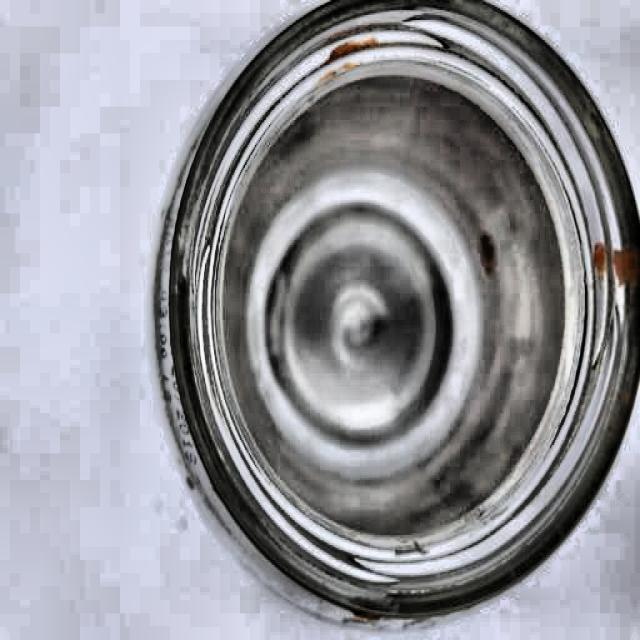glass: (156, 0, 632, 618)
